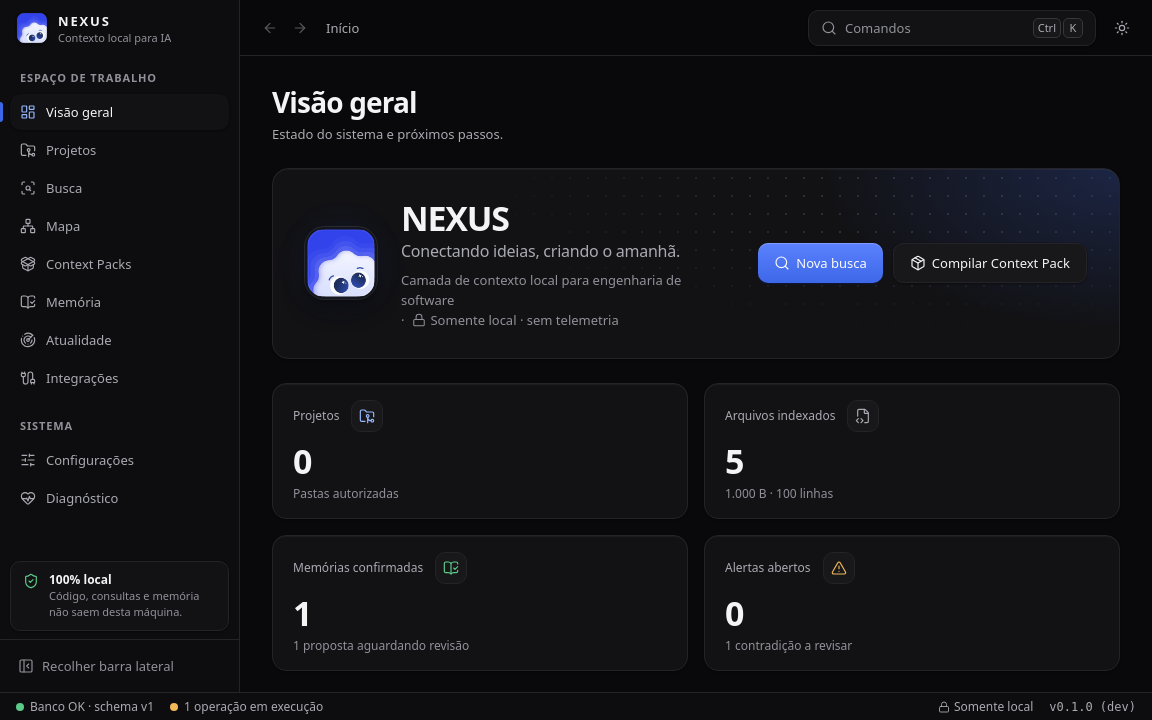
Scenario: Atualidade › verifica sob demanda e abre a memória do alerta
The width and height of the screenshot is (1152, 720).
Click the button "Atualidade".
click(120, 340)  # box [10, 322, 229, 358]
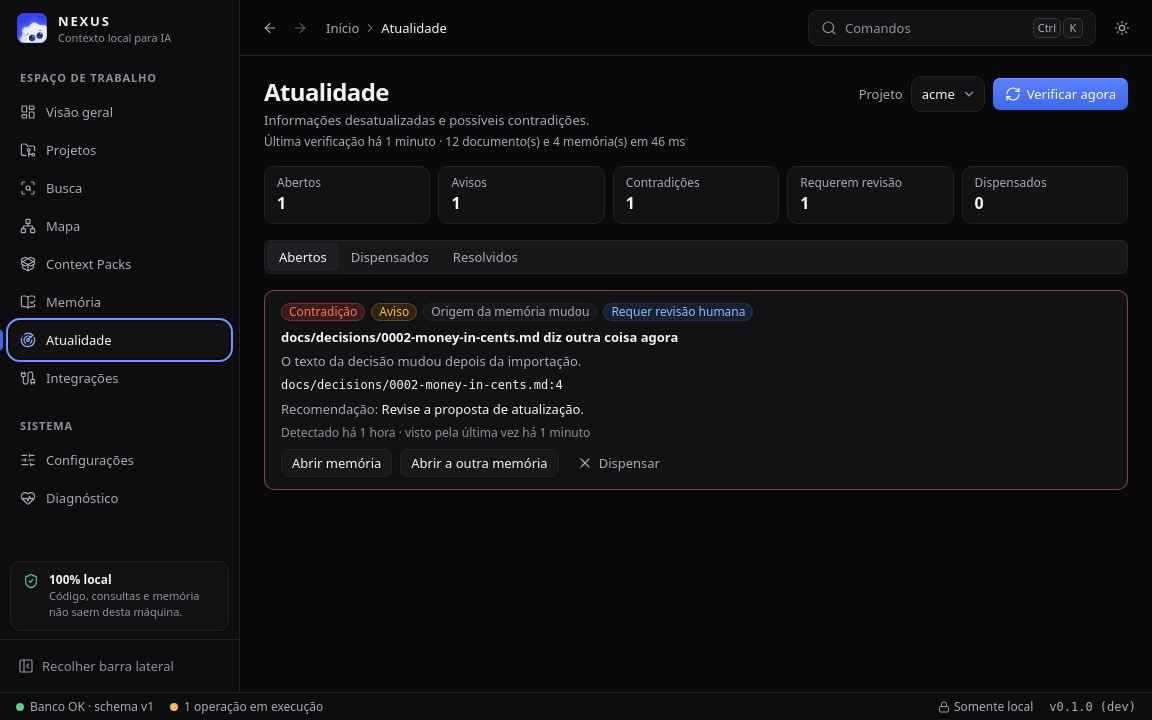
Click the button "Verificar agora".
click(1060, 94)  # box [993, 78, 1128, 110]
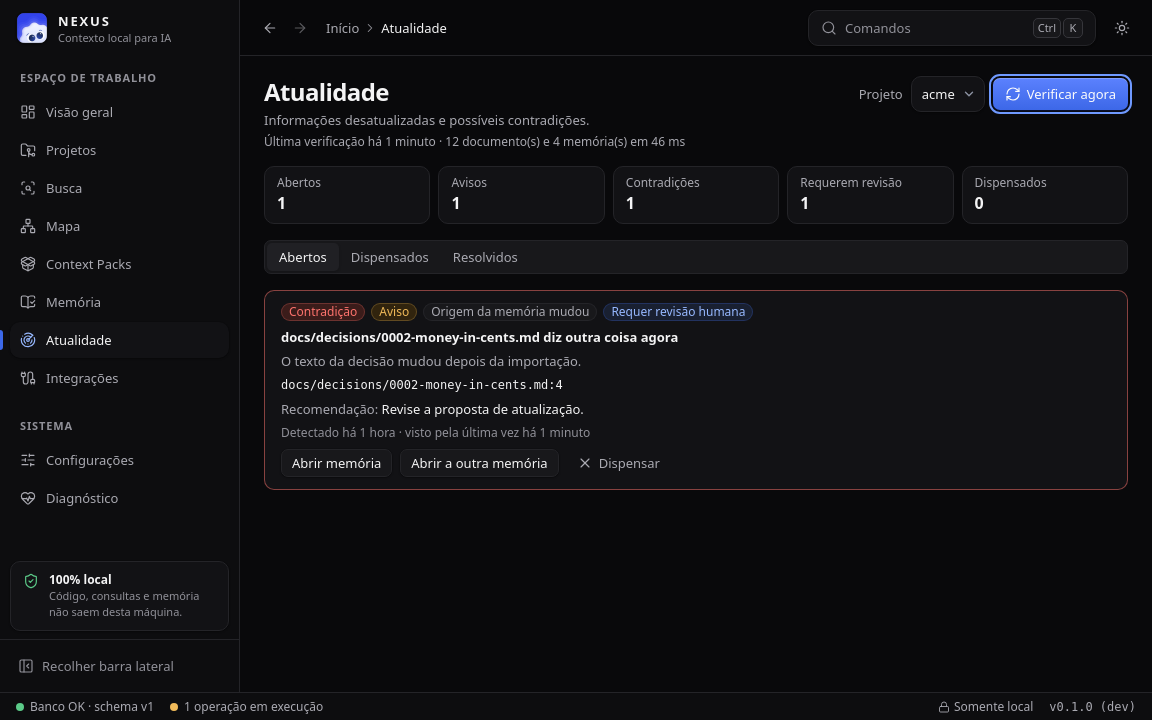
Click the button "Abrir a outra memória".
click(480, 463)  # box [400, 449, 559, 477]
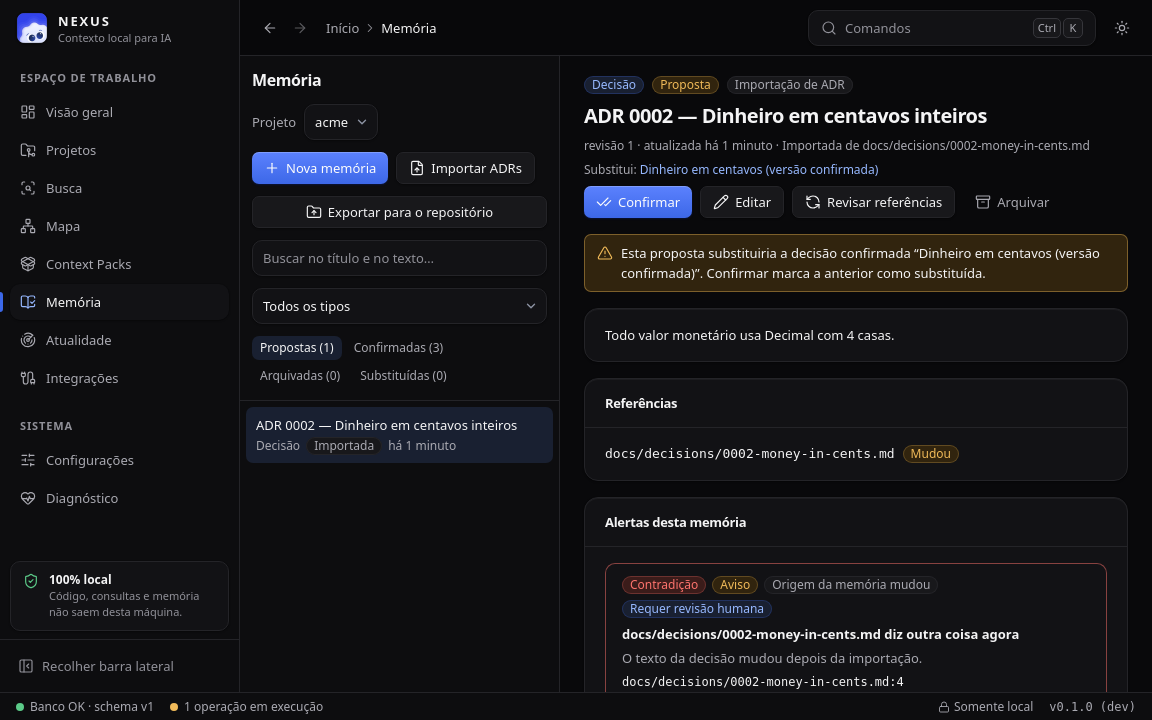
Now the heading "ADR 0002 — Dinheiro em centavos inteiros" is shown, box [584, 102, 987, 129]
